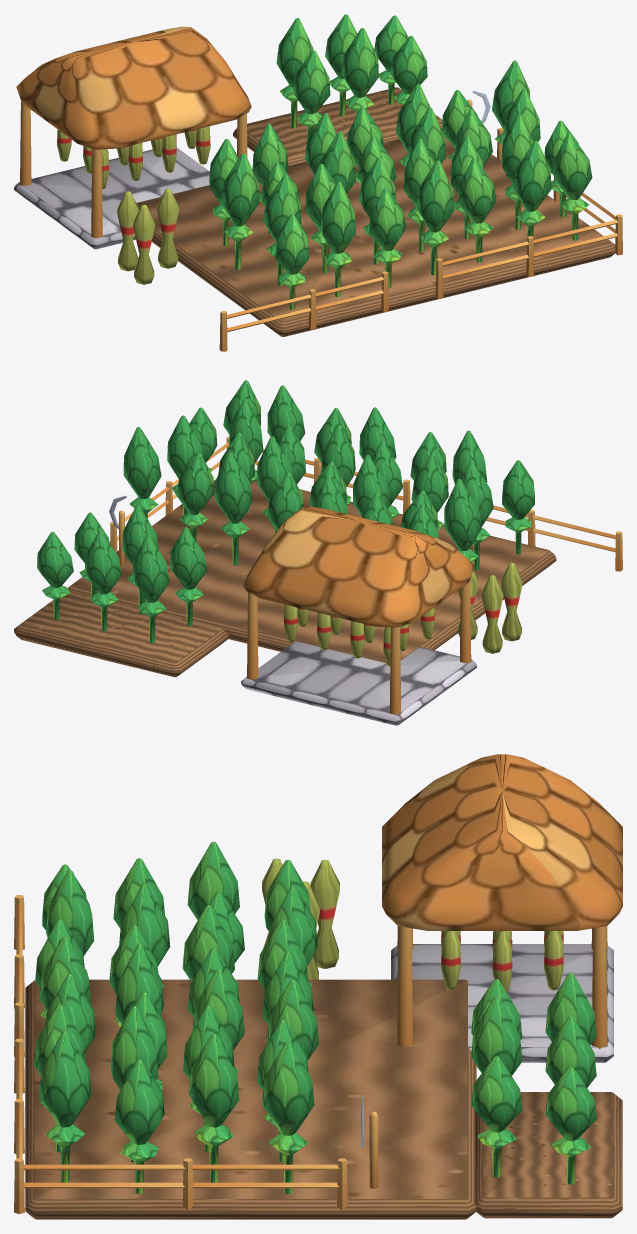
File: hemp.glb
The picture shows the model from 3 angles, top to bottom: view 1: azimuth 30°, elevation 25°; view 2: azimuth 150°, elevation 25°; view 3: azimuth 270°, elevation 25°; orthographic projection. The views are drawn at different scales.
Parts seen in each view (by area): view 1: hemp; view 2: hemp; view 3: hemp.
Boxes of the visible parts, x1,y1,x2,y2 form: hemp: [14, 14, 622, 351]; hemp: [14, 380, 622, 725]; hemp: [14, 754, 622, 1219].
Size of the model in its own units: 11.12 by 4.33 by 10.65.
4 materials, 4 textured.
